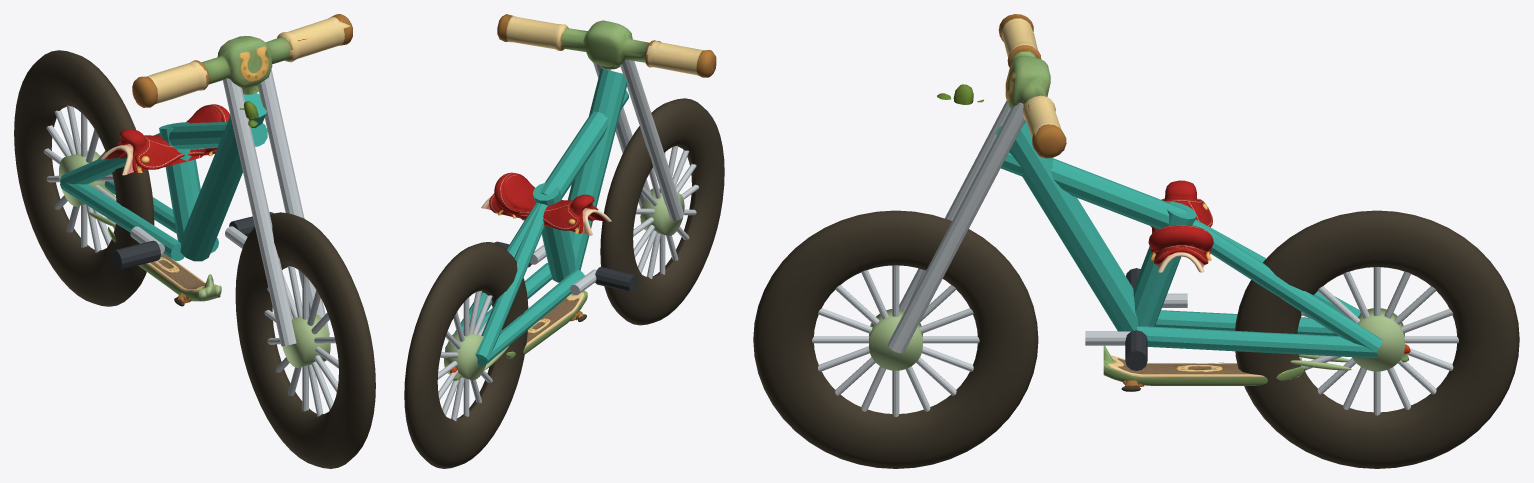
3 views of the same model, side by side, from view 1: azimuth 30°, elevation 25°; view 2: azimuth 150°, elevation 25°; view 3: azimuth 270°, elevation 25° (orthographic). The views are drawn at different scales.
Parts seen in each view (by area): view 1: Torus, Torus.001, tripo_mesh_caba9cc8-8769-4b67-b362-f041629eba61.003, 앞 포크, 다운 튜브, saddle-red, 앞 포크.001, body, 체인 스테이, 시트 튜브, 탑 튜브, 시트 스테이 (+10 smaller); view 2: Torus.001, Torus, tripo_mesh_caba9cc8-8769-4b67-b362-f041629eba61.003, 다운 튜브, saddle-red, 앞 포크, 시트 스테이, 탑 튜브, 체인 스테이, body, 시트 튜브, pedal-Right (+11 smaller); view 3: Torus, Torus.001, 다운 튜브, tripo_mesh_caba9cc8-8769-4b67-b362-f041629eba61.003, 앞 포크.001, 체인 스테이.001, body, 시트 스테이.001, 탑 튜브, saddle-red, 시트 튜브, 체인 스테이 (+7 smaller).
Part boxes in pixels (x1=…): Torus: x1=235, y1=212, x2=375, y2=468; Torus.001: x1=14, y1=50, x2=154, y2=306; tripo_mesh_caba9cc8-8769-4b67-b362-f041629eba61.003: x1=132, y1=14, x2=352, y2=126; 앞 포크: x1=223, y1=78, x2=296, y2=346; 다운 튜브: x1=180, y1=93, x2=266, y2=261; saddle-red: x1=100, y1=104, x2=230, y2=175; 앞 포크.001: x1=258, y1=69, x2=329, y2=334; body: x1=88, y1=185, x2=221, y2=306; 체인 스테이: x1=60, y1=182, x2=184, y2=260; 시트 튜브: x1=159, y1=122, x2=200, y2=243; 탑 튜브: x1=168, y1=121, x2=267, y2=149; 시트 스테이: x1=60, y1=133, x2=159, y2=184; Torus.001: x1=404, y1=242, x2=528, y2=468; Torus: x1=600, y1=98, x2=724, y2=325; tripo_mesh_caba9cc8-8769-4b67-b362-f041629eba61.003: x1=497, y1=14, x2=716, y2=77; 다운 튜브: x1=568, y1=68, x2=627, y2=270; saddle-red: x1=481, y1=172, x2=611, y2=235; 앞 포크: x1=620, y1=59, x2=683, y2=220; 시트 스테이: x1=475, y1=203, x2=547, y2=359; 탑 튜브: x1=540, y1=90, x2=628, y2=198; 체인 스테이: x1=477, y1=270, x2=584, y2=366; body: x1=450, y1=290, x2=587, y2=380; 시트 튜브: x1=532, y1=182, x2=575, y2=282; pedal-Right: x1=595, y1=267, x2=637, y2=292; Torus: x1=753, y1=210, x2=1038, y2=468; Torus.001: x1=1235, y1=210, x2=1519, y2=468; 다운 튜브: x1=996, y1=121, x2=1138, y2=331; tripo_mesh_caba9cc8-8769-4b67-b362-f041629eba61.003: x1=937, y1=14, x2=1066, y2=158; 앞 포크.001: x1=887, y1=102, x2=1025, y2=353; 체인 스테이.001: x1=1137, y1=326, x2=1377, y2=358; body: x1=1103, y1=344, x2=1410, y2=391; 시트 스테이.001: x1=1192, y1=220, x2=1382, y2=351; 탑 튜브: x1=1001, y1=152, x2=1186, y2=228; saddle-red: x1=1148, y1=180, x2=1213, y2=272; 시트 튜브: x1=1133, y1=202, x2=1196, y2=326; 체인 스테이: x1=1155, y1=310, x2=1338, y2=335.
Bounding box in the file's own units: 0.6386 × 1.01 × 1.72.
8 materials, 2 textured.
